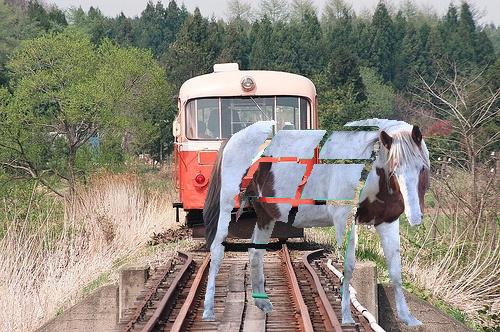tampered: (203, 119, 430, 326)
